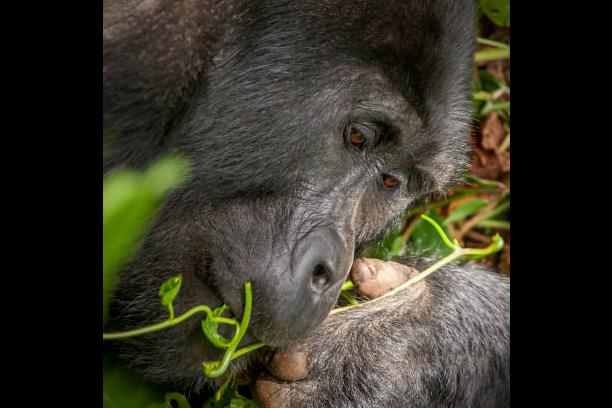goriile_montagne: (102, 0, 501, 408)
